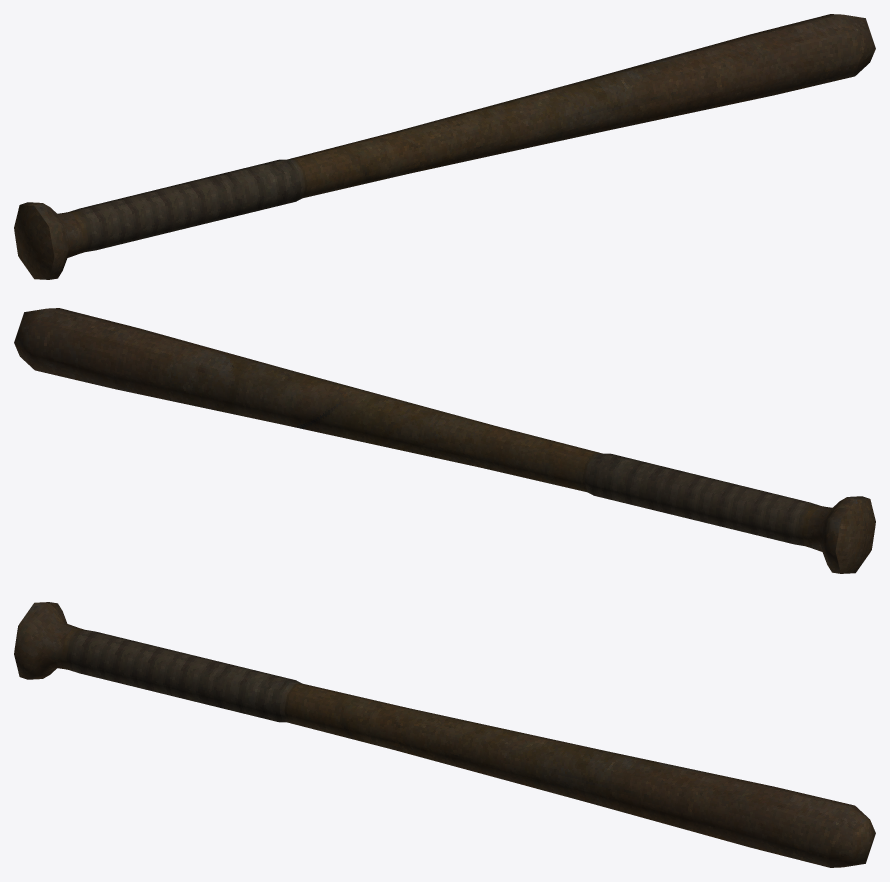
Rendered from baseball_bat_mx_1.glb.
3 renders of one model, top to bottom at view 1: azimuth 30°, elevation 25°; view 2: azimuth 150°, elevation 25°; view 3: azimuth 330°, elevation 25°, orthographic.
Parts seen in each view (by area): view 1: baseball_bat_mx_1; view 2: baseball_bat_mx_1; view 3: baseball_bat_mx_1.
Part boxes in pixels (x1,y1,x2,y2): baseball_bat_mx_1: (14,14,875,279); baseball_bat_mx_1: (14,308,875,573); baseball_bat_mx_1: (14,602,875,867).
Size of the model in its own units: 1.24 by 0.1053 by 0.1053.
1 material, 1 textured.
